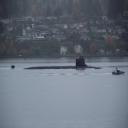submarine: (12, 56, 103, 74)
